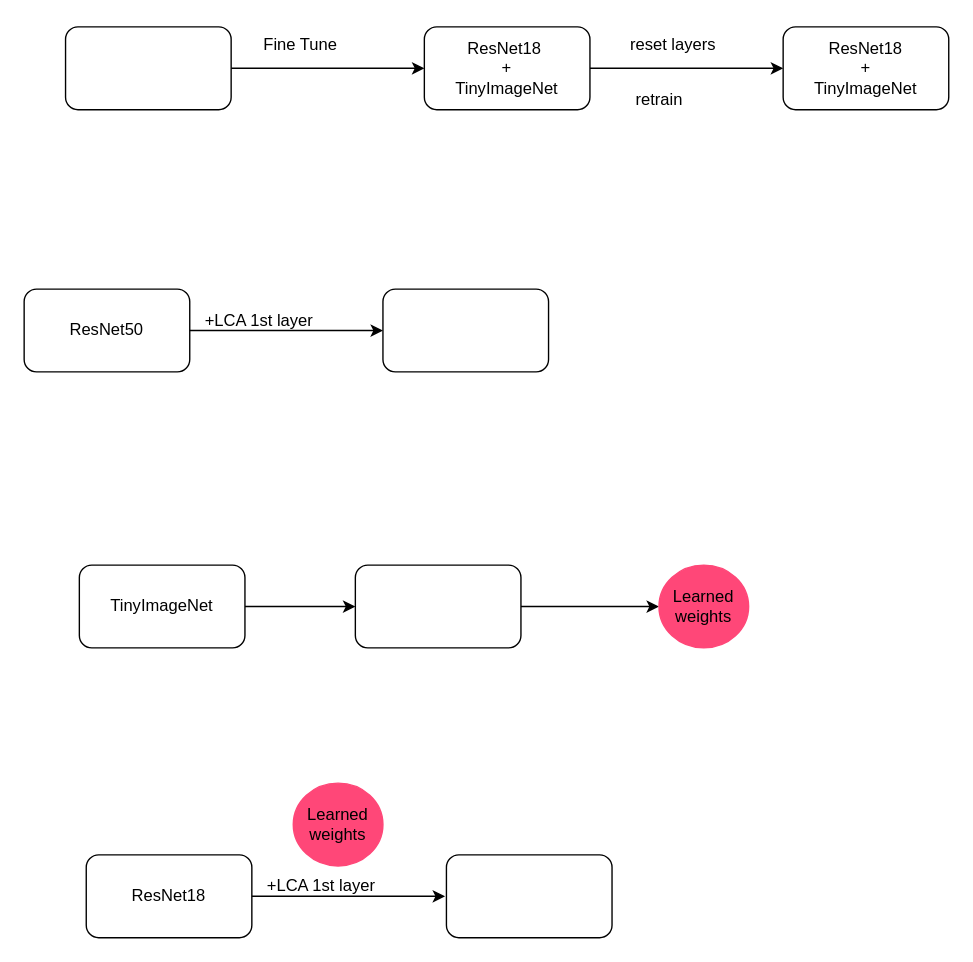
The diagram is 973 pixels wide and 962 high, and some of its shapes have lost their labels. The box of each missing label's shape, as (x1, y1, x2, y2) in pixels:
LCA Algorithm: (354, 564, 521, 648)
ResNet18 + ImageNet: (64, 26, 231, 110)
ResNet18 + LCA: (445, 854, 612, 938)
ResNet50 + LCA: (382, 288, 549, 372)
